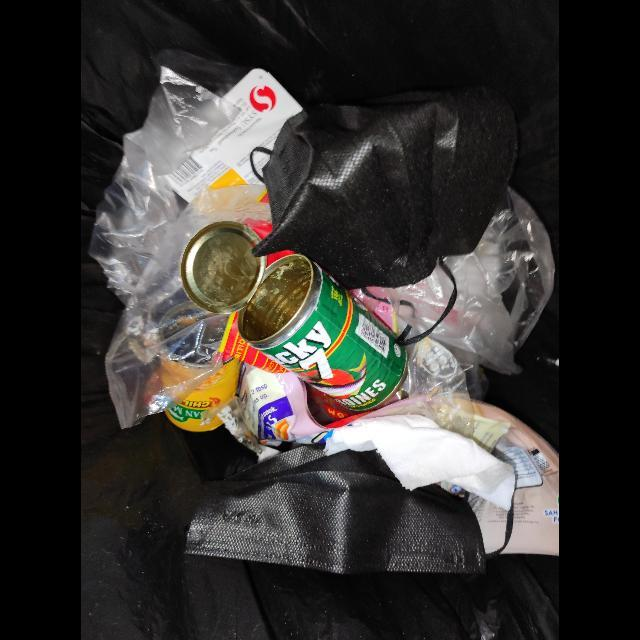metal: (181, 221, 408, 410), (153, 301, 242, 433)
paper: (324, 415, 517, 512)
plastic: (89, 68, 269, 431), (368, 187, 556, 437)
wrapper: (164, 70, 303, 204), (218, 311, 333, 451), (469, 401, 560, 557)
